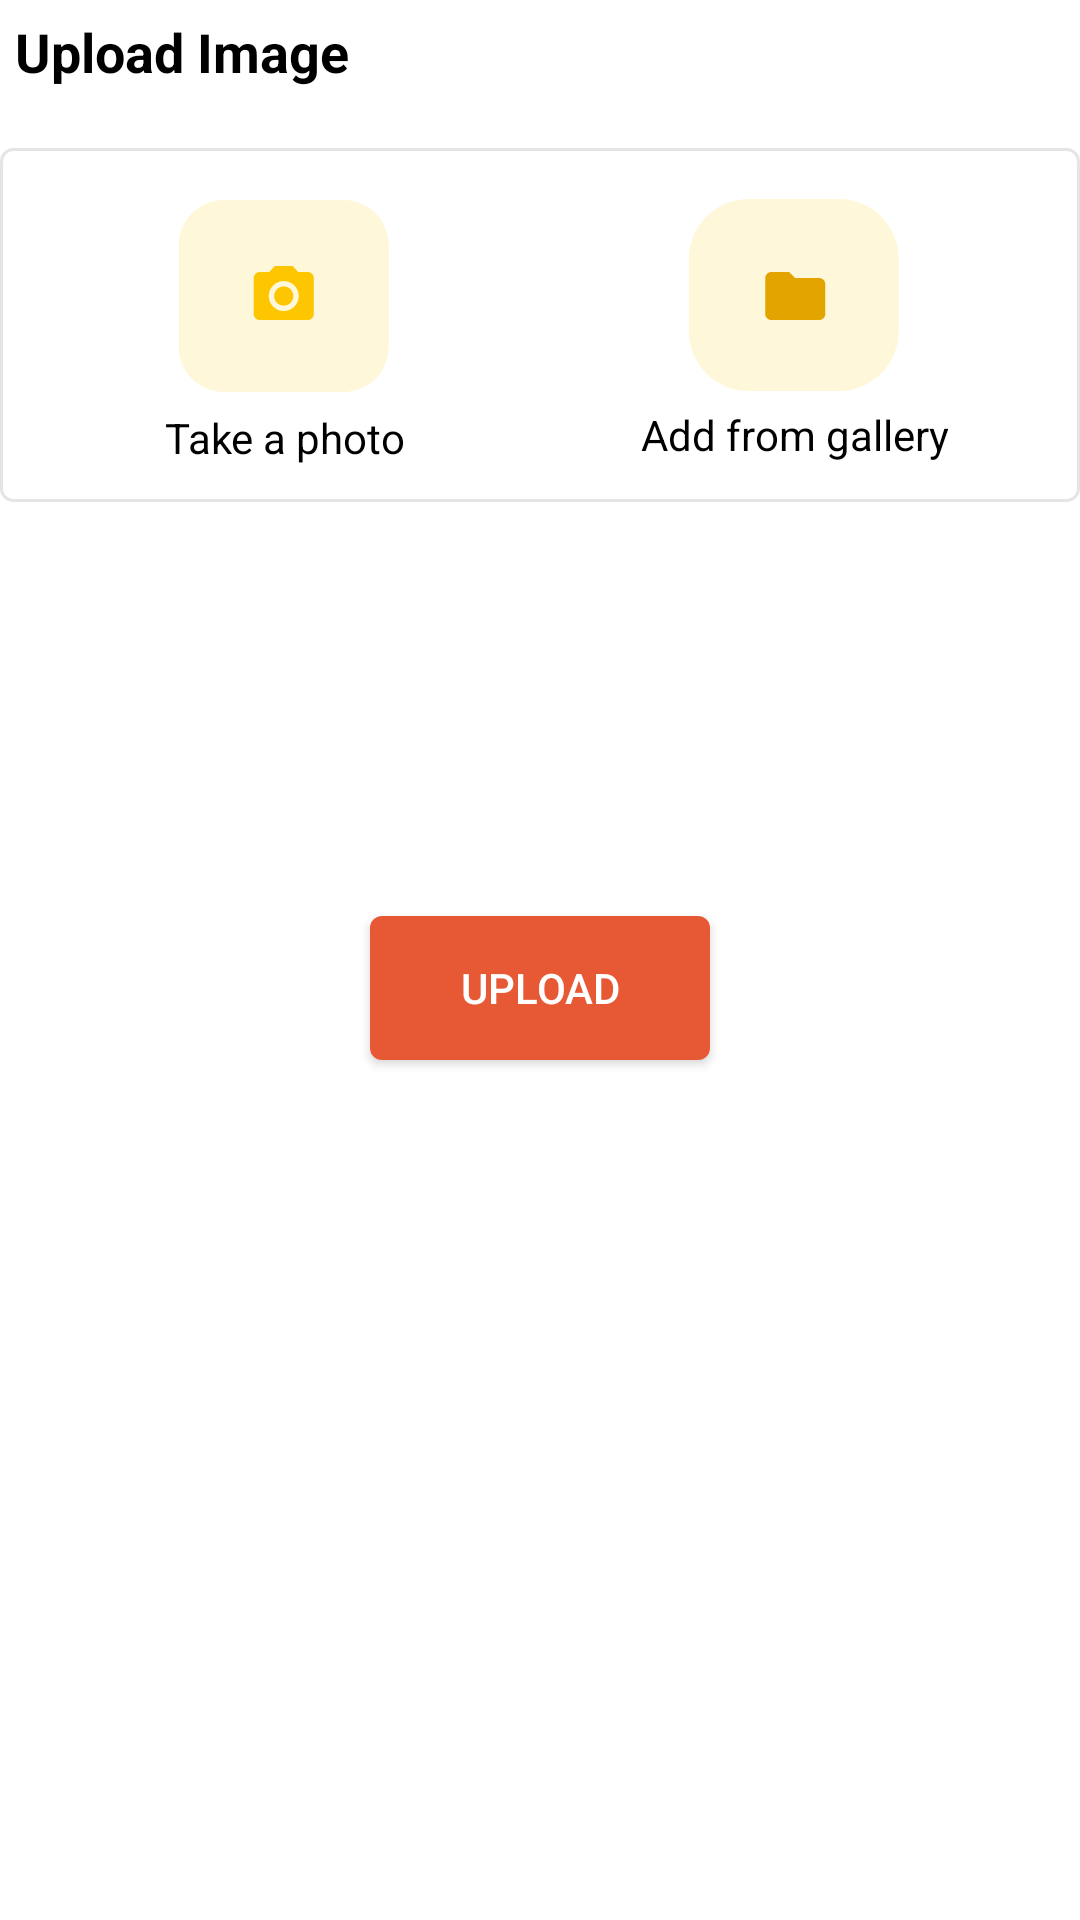

Icon bounding boxes for this 1080×1920 phone screenshot, format bbox(x1, y1, x2, y2):
camera option: bbox(179, 200, 389, 392)
folder option: bbox(689, 199, 899, 391)
